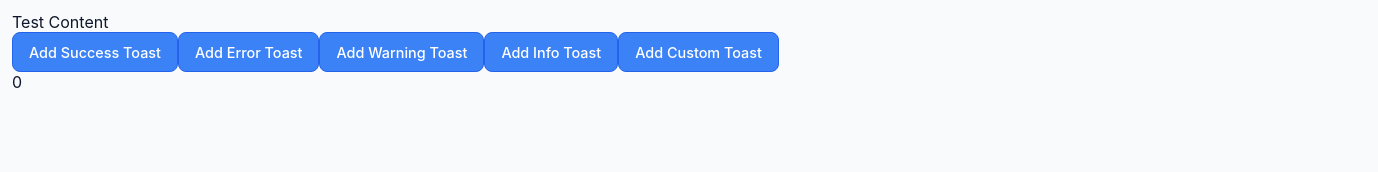
Test: ToastContext › should add custom toast
Click the button with test id "add-custom-button" at [699, 52], box [618, 32, 779, 72]
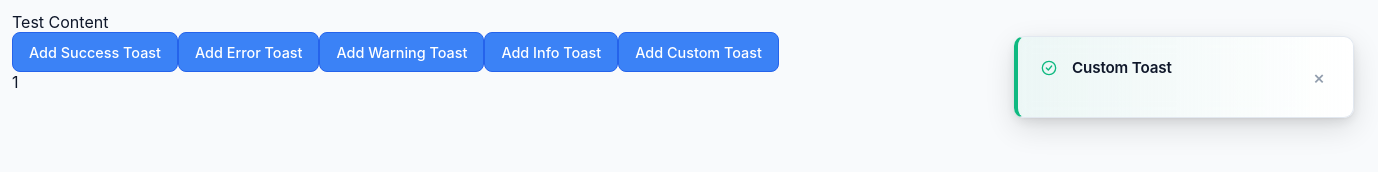
Now the element with class "toast-success" is shown, box [1014, 36, 1354, 118]
Now the element with class "toast-success" shows "Custom Toast", box [1072, 58, 1172, 77]
